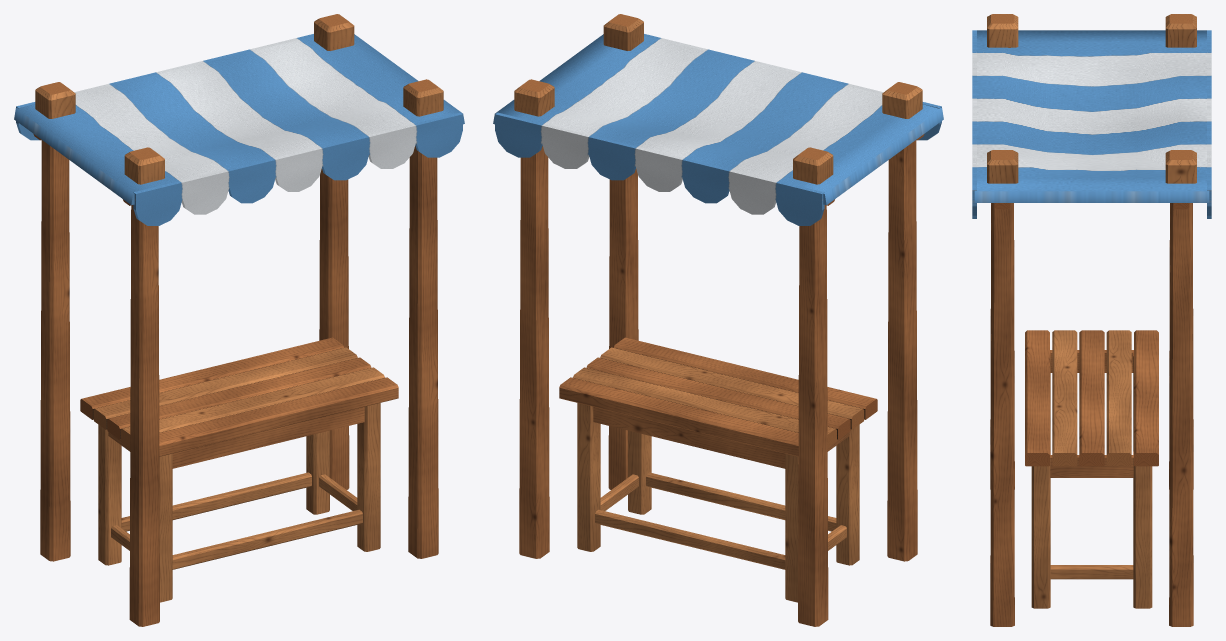
The model's file is FMS_Stall_Table_Canopy.fbx.
3 renders of one model, left to right at view 1: azimuth 30°, elevation 25°; view 2: azimuth 150°, elevation 25°; view 3: azimuth 270°, elevation 25°, orthographic.
Parts seen in each view (by area): view 1: item_stalls_table_canopy; view 2: item_stalls_table_canopy; view 3: item_stalls_table_canopy.
Boxes of the visible parts, x1,y1,x2,y2 form: item_stalls_table_canopy: (14,14,464,626); item_stalls_table_canopy: (493,14,943,626); item_stalls_table_canopy: (972,14,1211,626).
Size of the model in its own units: 1.72 by 2.31 by 1.07.
1 material, 1 textured.
